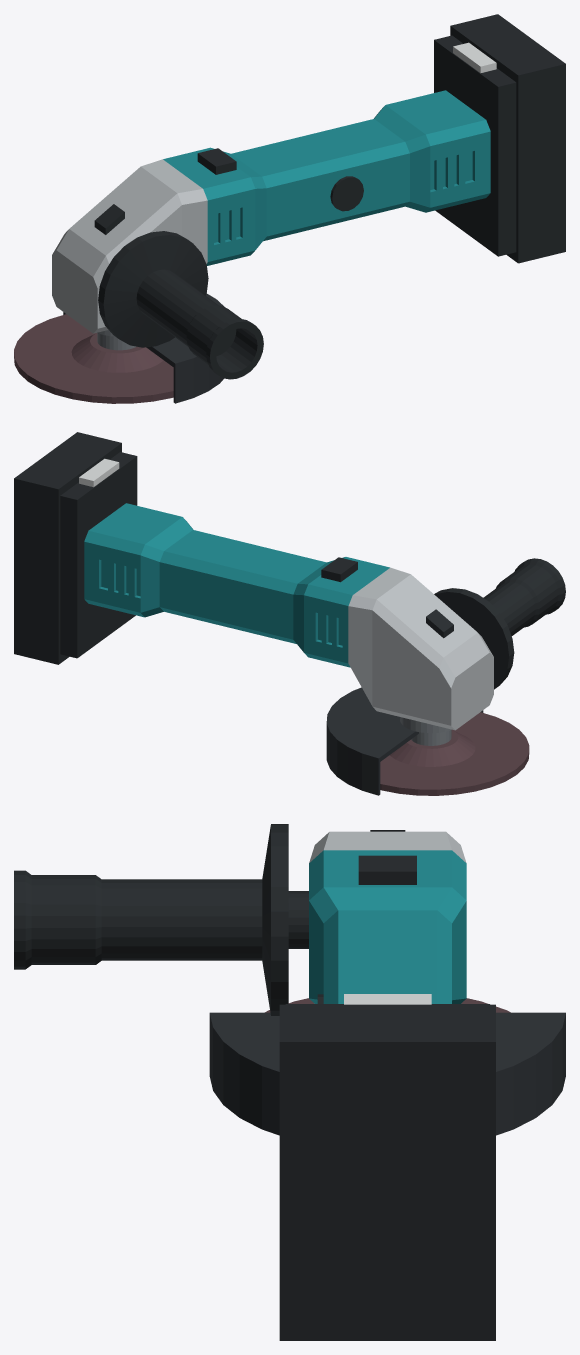
3 renders of one model, top to bottom at view 1: azimuth 30°, elevation 25°; view 2: azimuth 150°, elevation 25°; view 3: azimuth 270°, elevation 25°, orthographic. The views are drawn at different scales.
Parts seen in each view (by area): view 1: 06_Motor_barrel_with_front_and_rear_vent_recesses, 12_Hollow_end_auxiliary_side_handle, 08_3Ah_style_battery_pack, 05_Cast_right_angle_gear_head, 01_Depressed_center_115mm_grinding_wheel, 07_Battery_mount_tower, 04_Partial_wheel_guard_with_integral_top_attachment, 13_Round_brush_service_cover, 09_Battery_release_latch, 10_Slide_switch, 11_Spindle_lock_button; view 2: 06_Motor_barrel_with_front_and_rear_vent_recesses, 05_Cast_right_angle_gear_head, 08_3Ah_style_battery_pack, 01_Depressed_center_115mm_grinding_wheel, 07_Battery_mount_tower, 12_Hollow_end_auxiliary_side_handle, 04_Partial_wheel_guard_with_integral_top_attachment, 09_Battery_release_latch, 10_Slide_switch, 11_Spindle_lock_button, 02_Wheel_flange_and_spindle; view 3: 08_3Ah_style_battery_pack, 12_Hollow_end_auxiliary_side_handle, 06_Motor_barrel_with_front_and_rear_vent_recesses, 04_Partial_wheel_guard_with_integral_top_attachment, 05_Cast_right_angle_gear_head, 10_Slide_switch, 09_Battery_release_latch.
Part boxes in pixels (x1,y1,x2,y2): 06_Motor_barrel_with_front_and_rear_vent_recesses: (163,90,490,265); 12_Hollow_end_auxiliary_side_handle: (98,231,263,379); 08_3Ah_style_battery_pack: (450,14,565,263); 05_Cast_right_angle_gear_head: (52,159,207,333); 01_Depressed_center_115mm_grinding_wheel: (14,314,173,403); 07_Battery_mount_tower: (434,35,516,256); 04_Partial_wheel_guard_with_integral_top_attachment: (63,293,224,403); 13_Round_brush_service_cover: (330,176,363,211); 09_Battery_release_latch: (453,42,496,73); 10_Slide_switch: (197,148,236,174); 11_Spindle_lock_button: (94,204,124,234); 06_Motor_barrel_with_front_and_rear_vent_recesses: (84,503,389,667); 05_Cast_right_angle_gear_head: (348,567,493,730); 08_3Ah_style_battery_pack: (14,432,121,664); 01_Depressed_center_115mm_grinding_wheel: (380,712,529,795); 07_Battery_mount_tower: (60,452,137,658); 12_Hollow_end_auxiliary_side_handle: (434,558,565,689); 04_Partial_wheel_guard_with_integral_top_attachment: (326,687,483,795); 09_Battery_release_latch: (79,458,119,487); 10_Slide_switch: (321,557,357,582); 11_Spindle_lock_button: (426,609,453,638); 02_Wheel_flange_and_spindle: (411,730,451,745); 08_3Ah_style_battery_pack: (279,1004,495,1340); 12_Hollow_end_auxiliary_side_handle: (14,824,308,1015); 06_Motor_barrel_with_front_and_rear_vent_recesses: (309,850,466,1003); 04_Partial_wheel_guard_with_integral_top_attachment: (209,1012,565,1135); 05_Cast_right_angle_gear_head: (309,831,466,1003); 10_Slide_switch: (358,855,416,884); 09_Battery_release_latch: (344,994,431,1004).
Bounding box in the file's own units: 0.317 × 0.134 × 0.189.
